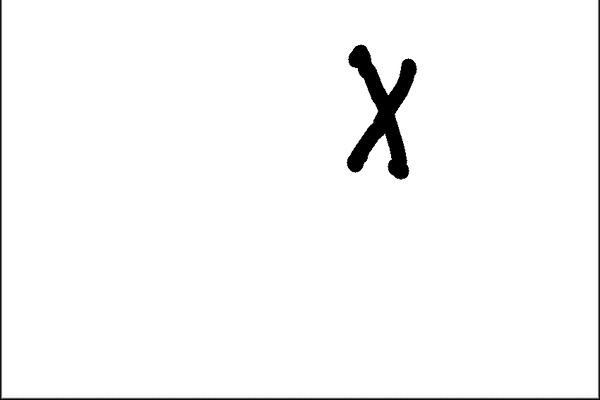X: (324, 22, 428, 175)
